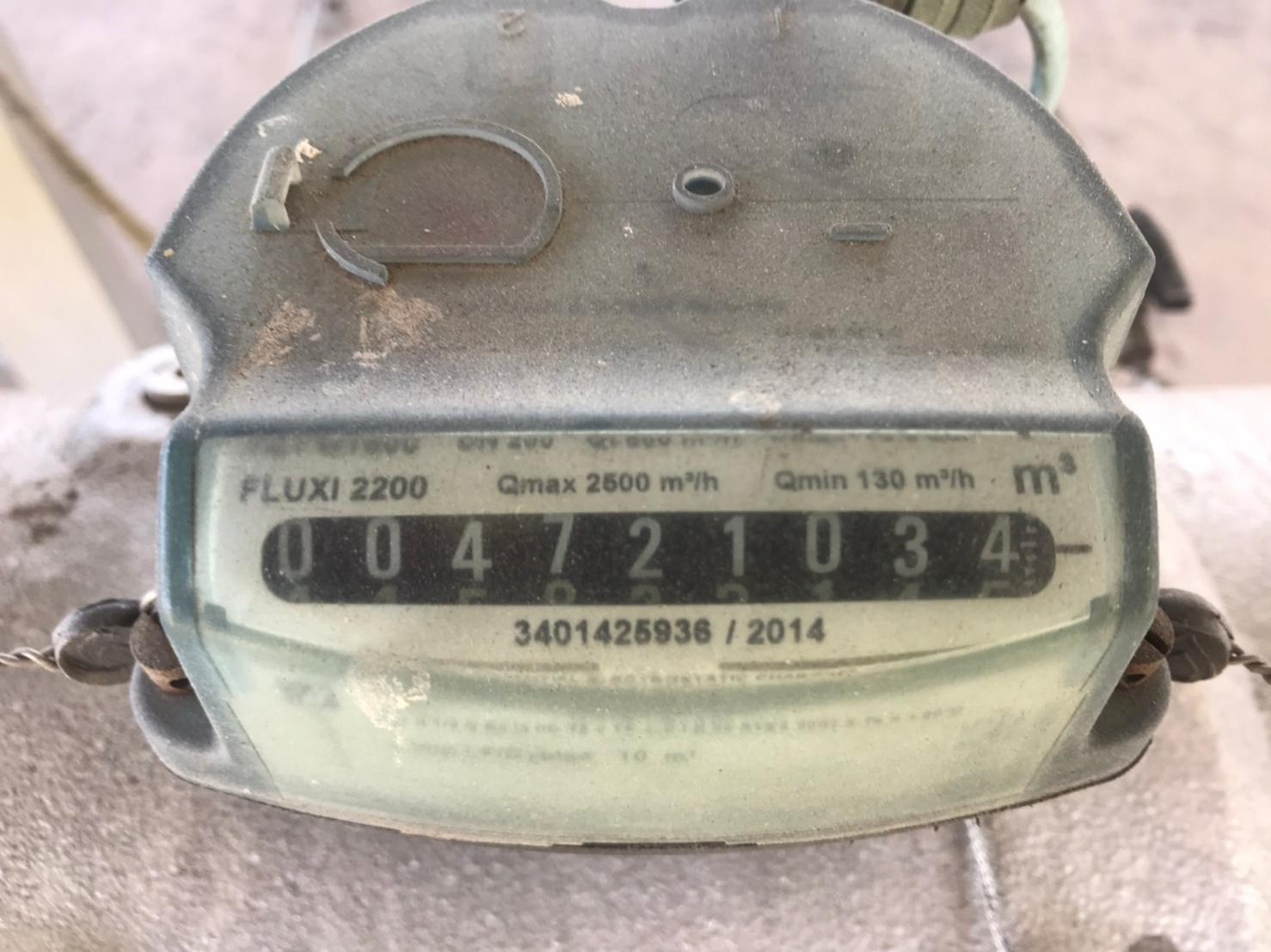analog_dial: (253, 503, 1094, 624)
